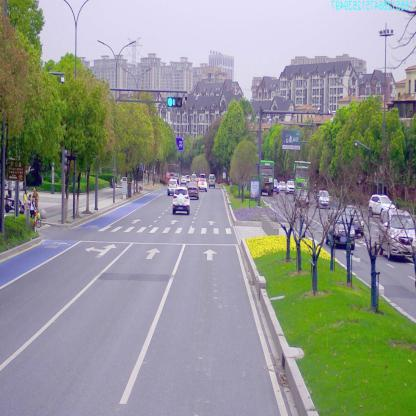traffic-light: (168, 96, 184, 109)
